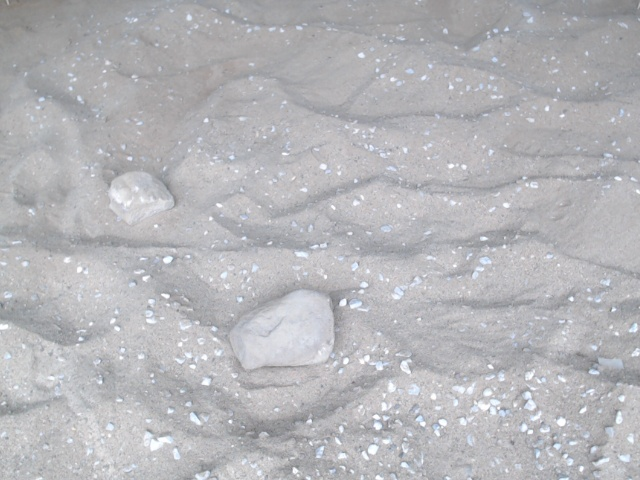rock: (222, 285, 340, 377), (104, 167, 180, 230)
